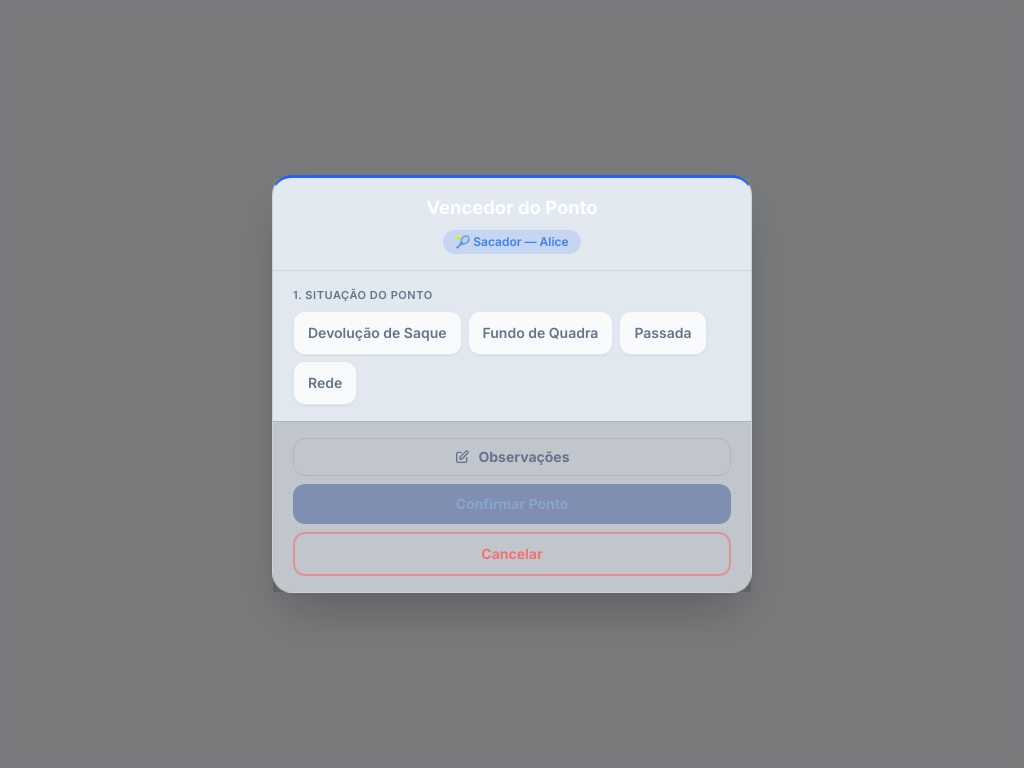
Test: PointDetailsModal — Characterization Tests › Golpe selection flow › shows Golpe section after selecting tipo
This screenshot has width=1024, height=768.
Expected: the text "1. Situação do Ponto" is shown, [293,288,433,302]
Step 1. Click the button "Fundo de Quadra" → (540, 333), box [468,311,613,355]
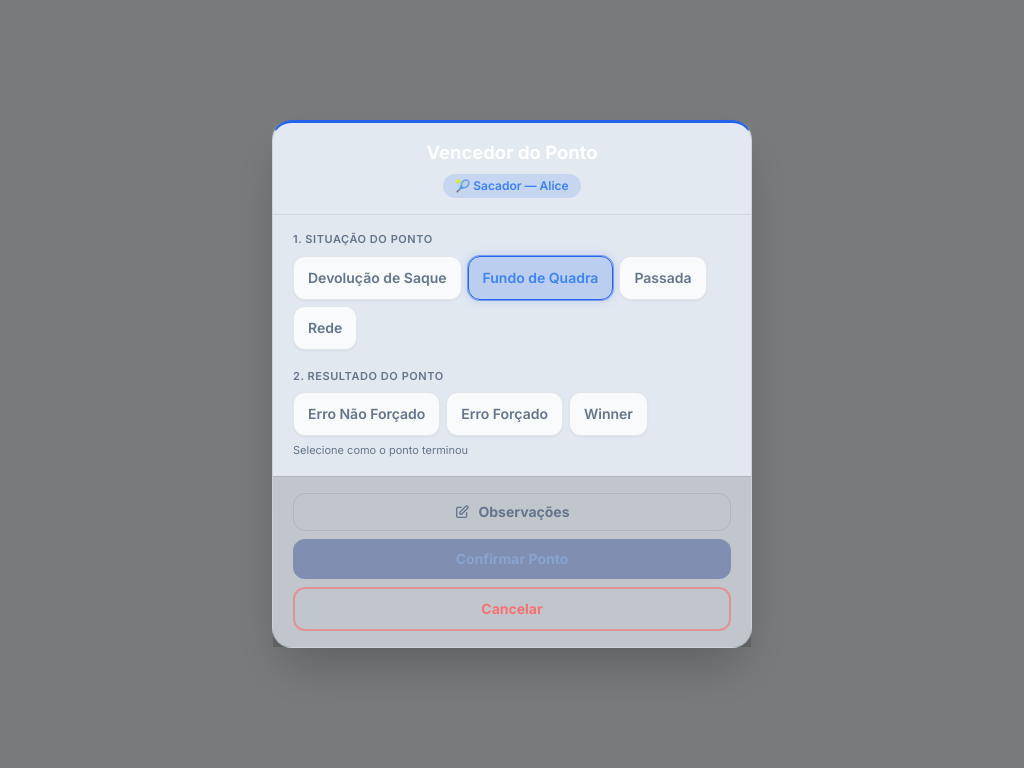
Result: the text "2. Resultado do Ponto" is shown at [293,369,444,383]
Step 2. Click the button "Winner" → (608, 414), box [569,392,648,436]
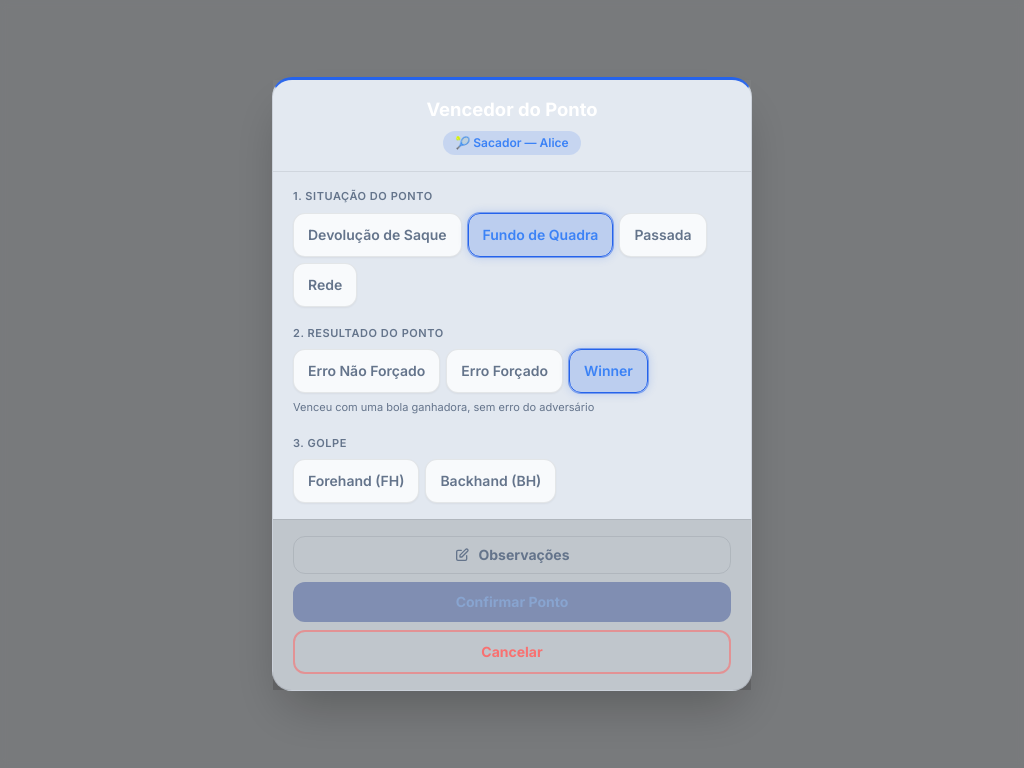
Result: the text "3. Golpe" is shown at [293,436,347,450]
